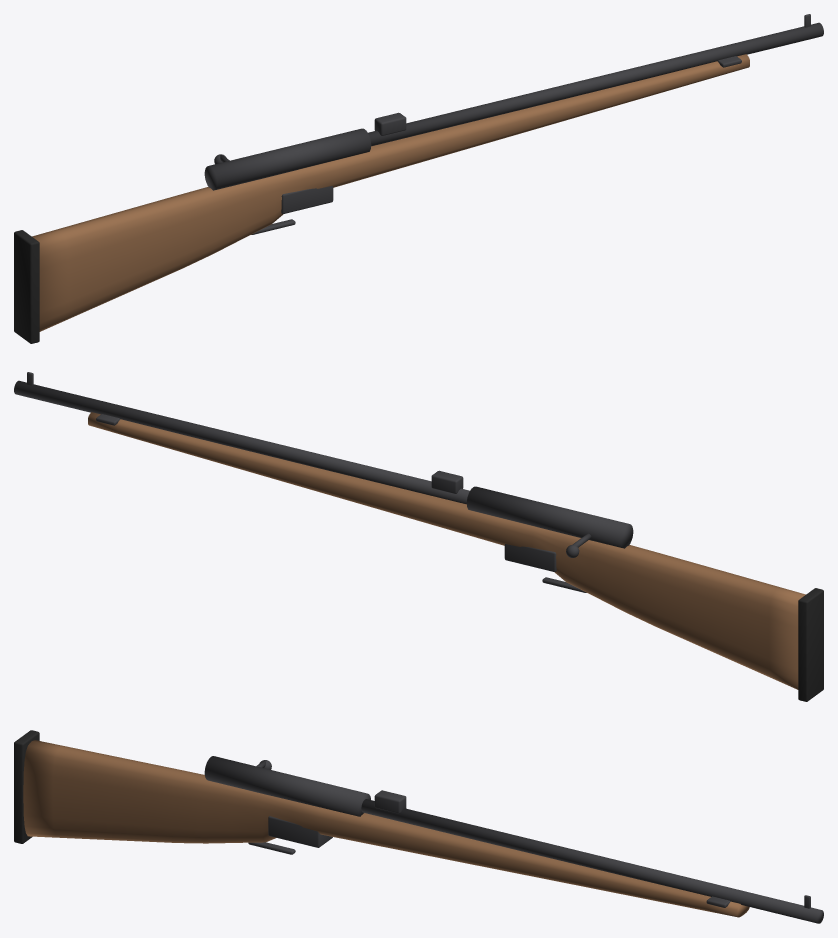
File: SM_Mosin.glb
The picture shows the model from 3 angles, top to bottom: view 1: azimuth 30°, elevation 25°; view 2: azimuth 150°, elevation 25°; view 3: azimuth 330°, elevation 25°; orthographic projection.
Parts seen in each view (by area): view 1: SM_Mosin; view 2: SM_Mosin; view 3: SM_Mosin.
Boxes of the visible parts, x1,y1,x2,y2 form: SM_Mosin: [14, 14, 823, 343]; SM_Mosin: [14, 372, 823, 701]; SM_Mosin: [14, 730, 823, 923].
Bounding box in the file's own units: 1.24 × 0.197 × 0.0925.
